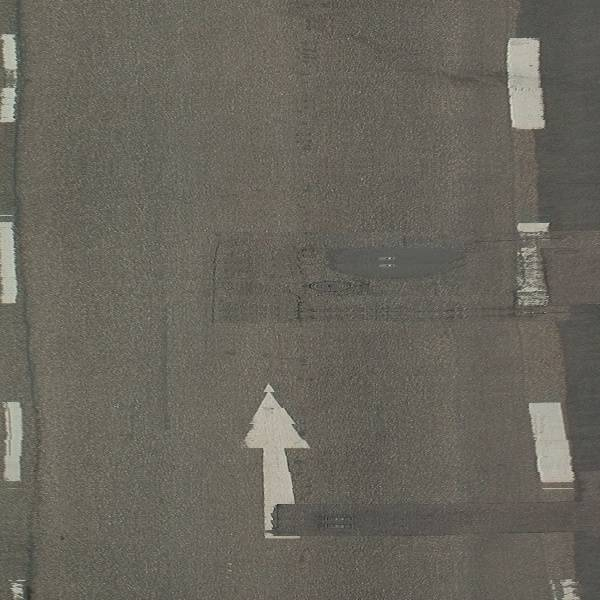road_damage: (269, 499, 600, 536), (285, 301, 574, 331), (323, 240, 470, 283), (285, 239, 314, 331), (204, 235, 226, 332)
